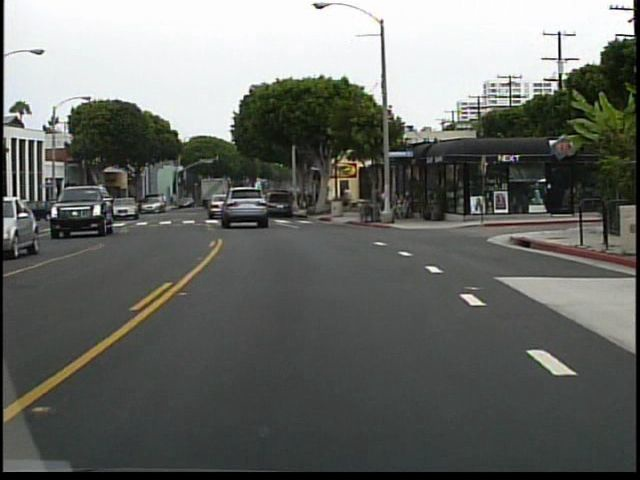person: (367, 185, 385, 223)
